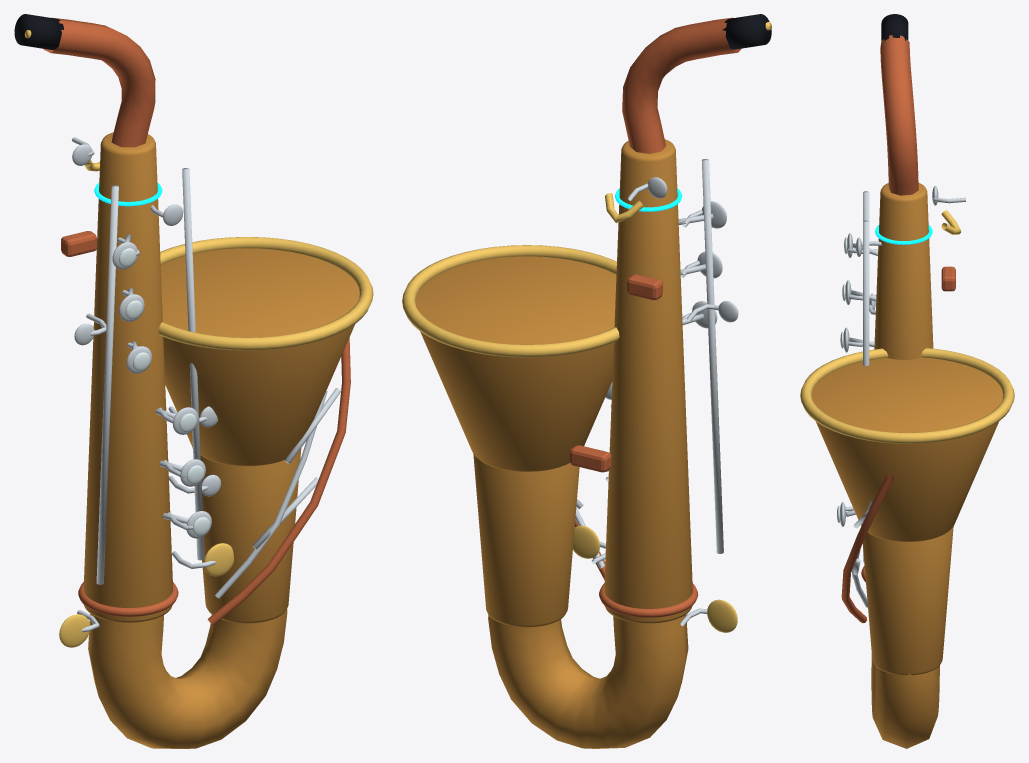
Rendered from rashin-parisienne-tenor-hero.glb.
The picture shows the model from 3 angles, left to right: view 1: azimuth 30°, elevation 25°; view 2: azimuth 150°, elevation 25°; view 3: azimuth 270°, elevation 25°; orthographic projection. The views are drawn at different scales.
Visible parts, largest first — view 1: bell_flare, main_conical_bore, low_bow_tube, bell_riser, bell_edge_guard, octave_neck, long_key_rod_1, bell_guard_outer, long_key_rod_2, mouthpiece_core, bell_guard_inner, lower_body_collar (+3 smaller); view 2: main_conical_bore, bell_flare, low_bow_tube, bell_riser, octave_neck, bell_edge_guard, long_key_rod_1, mouthpiece_core, lower_body_collar, right_thumb_hook, key_cup_low_b, left_thumb_rest (+1 smaller); view 3: bell_flare, bell_riser, main_conical_bore, bell_edge_guard, octave_neck, low_bow_tube, bell_guard_outer, long_key_rod_2, mouthpiece_core.
Boxes of the visible parts, box(x1,y1,x2,y2) form: bell_flare: box(160, 248, 359, 466); main_conical_bore: box(83, 132, 172, 622); low_bow_tube: box(88, 609, 287, 748); bell_riser: box(192, 448, 301, 623); bell_edge_guard: box(158, 237, 373, 350); octave_neck: box(43, 17, 155, 147); long_key_rod_1: box(96, 185, 118, 584); bell_guard_outer: box(207, 337, 350, 625); long_key_rod_2: box(182, 168, 204, 560); mouthpiece_core: box(14, 14, 63, 50); bell_guard_inner: box(215, 391, 327, 598); lower_body_collar: box(78, 582, 178, 616); main_conical_bore: box(604, 139, 692, 623); bell_flare: box(415, 256, 616, 471); low_bow_tube: box(488, 614, 688, 748); bell_riser: box(473, 454, 579, 627); octave_neck: box(622, 17, 741, 153); bell_edge_guard: box(402, 245, 619, 357); long_key_rod_1: box(701, 159, 723, 553); mouthpiece_core: box(722, 14, 771, 49); lower_body_collar: box(599, 583, 698, 617); right_thumb_hook: box(570, 445, 611, 472); key_cup_low_b: box(707, 599, 737, 632); left_thumb_rest: box(627, 274, 662, 300); bell_flare: box(812, 357, 1002, 541); bell_riser: box(862, 526, 953, 675); main_conical_bore: box(874, 183, 933, 359); bell_edge_guard: box(800, 348, 1014, 443); octave_neck: box(880, 35, 918, 195); low_bow_tube: box(871, 654, 939, 748); bell_guard_outer: box(841, 474, 893, 623); long_key_rod_2: box(863, 220, 869, 562); mouthpiece_core: box(881, 14, 908, 40).
Bounding box in the file's own units: 0.3769 × 0.8104 × 0.239.
